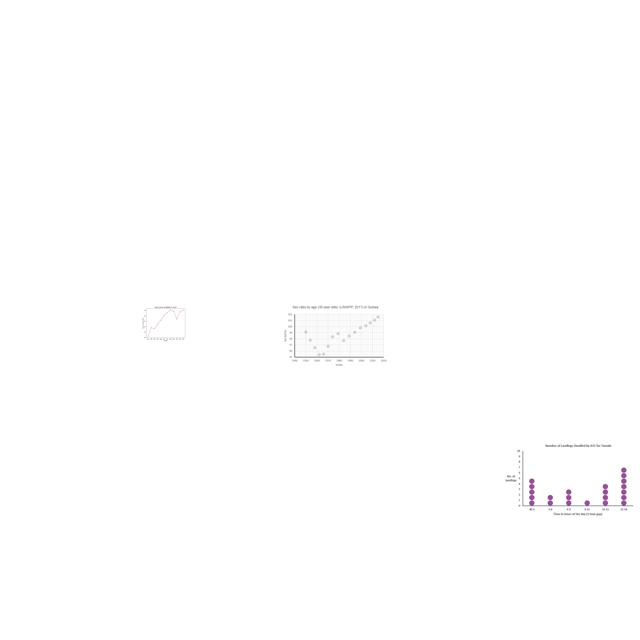Graph: (501, 441, 636, 519), (282, 304, 388, 367), (140, 304, 190, 342)
